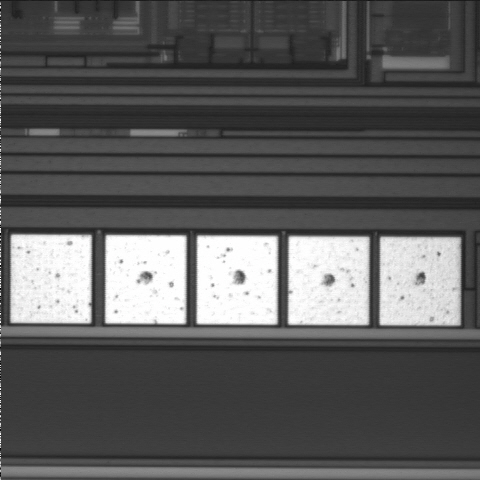pad: (105, 235, 186, 324), (197, 236, 278, 325), (288, 236, 369, 325), (11, 235, 92, 323), (380, 237, 460, 325)
